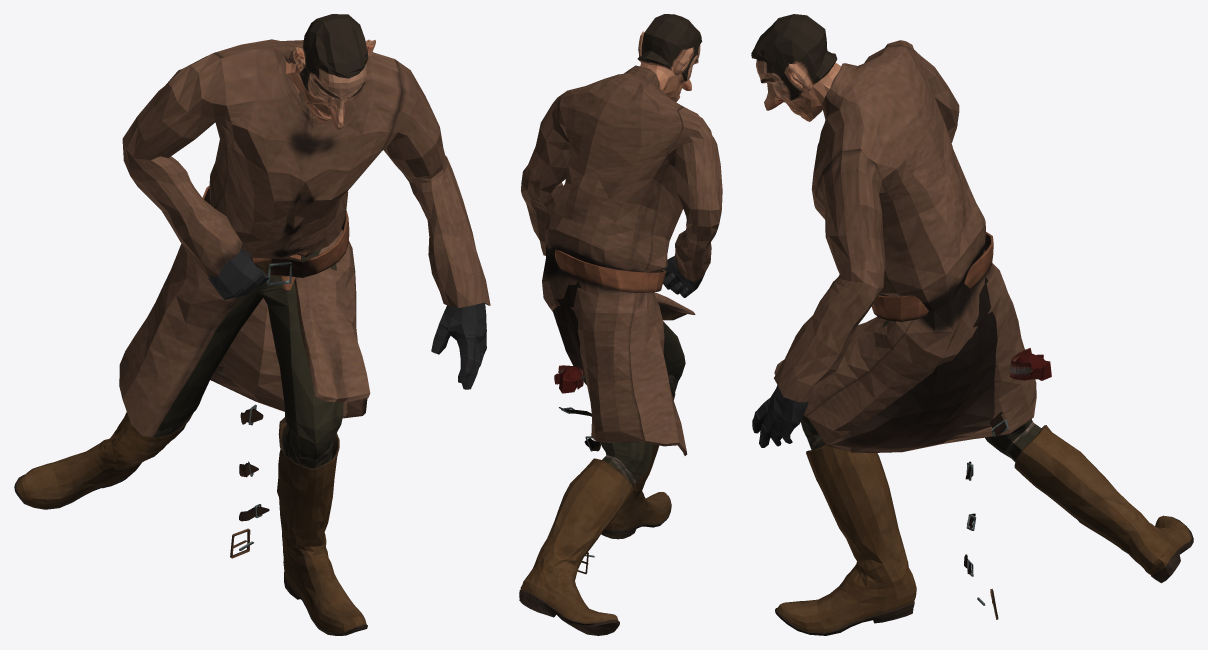
File: sniper01_000013.obj
3 renders of one model, left to right at view 1: azimuth 30°, elevation 25°; view 2: azimuth 150°, elevation 25°; view 3: azimuth 270°, elevation 25°, orthographic. The views are drawn at different scales.
Visible parts, largest first — view 1: Tops, Shoes, BodyParts, Bottoms; view 2: Tops, Shoes, BodyParts, Bottoms; view 3: Tops, Shoes, BodyParts, Bottoms.
Part boxes in pixels (bbox=[...]): Tops: bbox=[119, 39, 490, 550]; Shoes: bbox=[14, 412, 367, 635]; BodyParts: bbox=[205, 14, 486, 389]; Bottoms: bbox=[153, 249, 343, 558]; Tops: bbox=[521, 65, 722, 557]; Shoes: bbox=[519, 393, 675, 635]; BodyParts: bbox=[554, 14, 704, 393]; Bottoms: bbox=[577, 321, 685, 574]; Tops: bbox=[774, 40, 1036, 605]; Shoes: bbox=[775, 425, 1193, 635]; BodyParts: bbox=[751, 14, 1051, 447]; Bottoms: bbox=[800, 250, 1041, 619].
Bounding box in the file's own units: 1.09 × 2.25 × 1.5.
